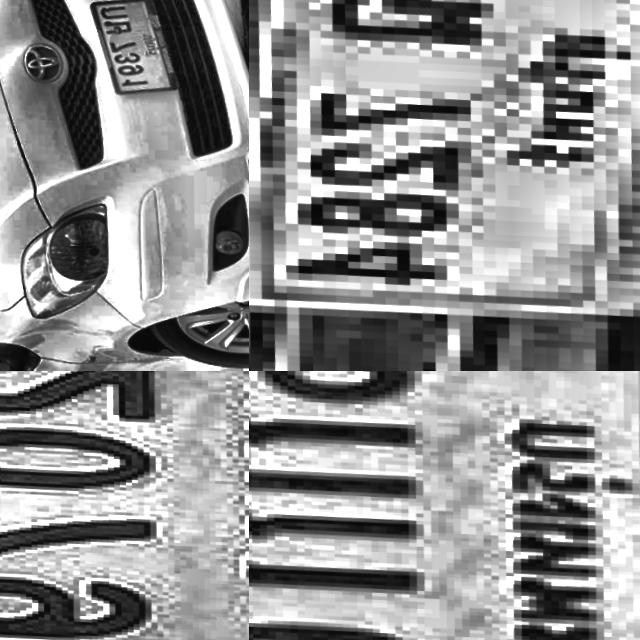license-plate: (249, 0, 640, 342), (249, 371, 640, 640), (0, 371, 249, 640), (74, 0, 190, 102)
